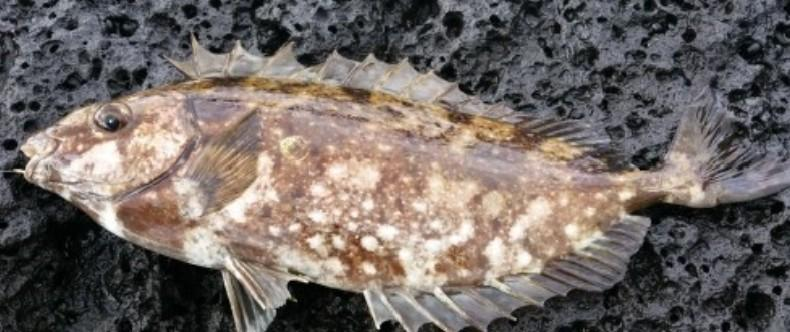fish: (16, 38, 789, 331)
